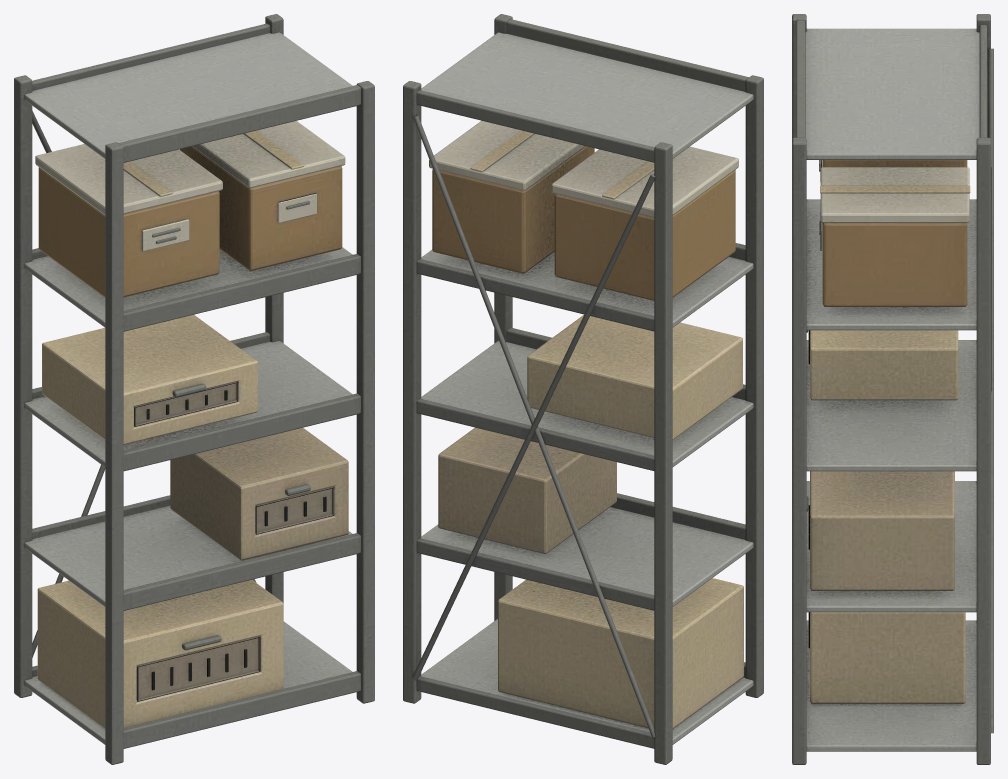
File: props-shelf-unit.glb
3 renders of one model, left to right at view 1: azimuth 30°, elevation 25°; view 2: azimuth 150°, elevation 25°; view 3: azimuth 270°, elevation 25°, orthographic.
Parts seen in each view (by area): view 1: case-baked; view 2: case-baked; view 3: case-baked.
Part boxes in pixels (left/top/right/bottom): case-baked: left=14, top=14, right=374, bottom=764; case-baked: left=403, top=14, right=763, bottom=764; case-baked: left=792, top=14, right=993, bottom=764.
Size of the model in its own units: 0.8499 by 1.9 by 0.558.
Materials: 1 (1 with a texture image).
